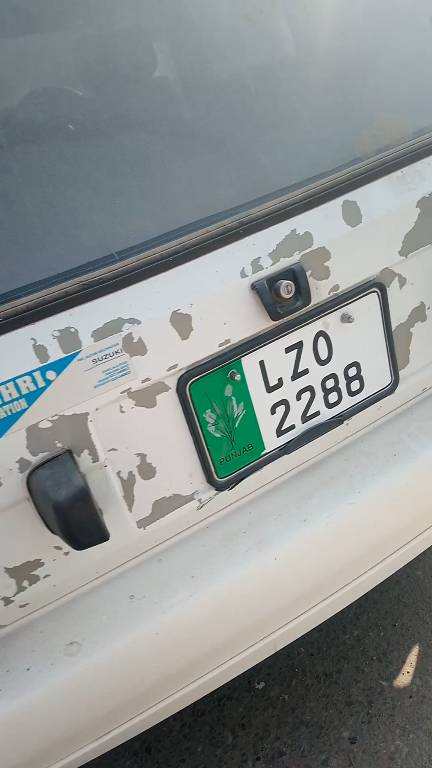number_plate: (177, 286, 408, 493)
